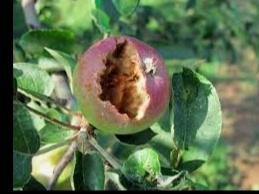rotten apple: (66, 34, 170, 133)
